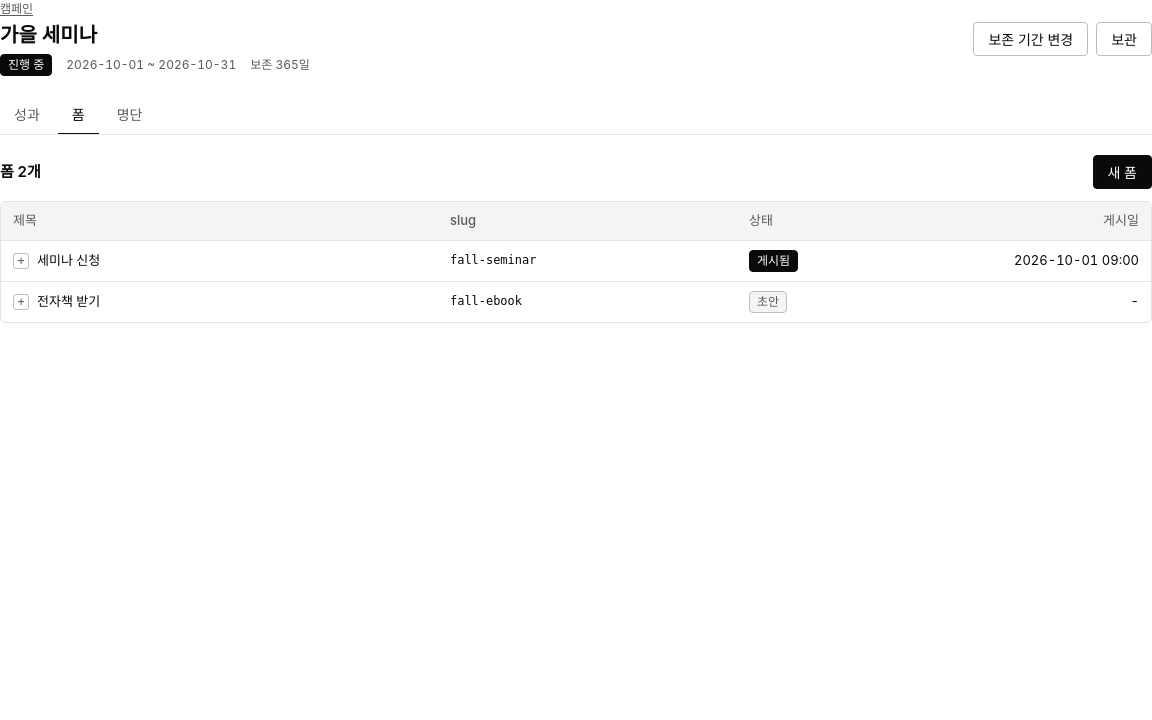
Scenario: 캠페인 보존 기간 › 보존 기간을 머리글에 보여주고 변경 대화상자로 바꾼다
Expected: the text "보존 365일" is shown, top-left (250, 56), bottom-right (310, 74)
Click the button "보존 기간 변경" at (1031, 39), box top-left (974, 22), bottom-right (1088, 56)
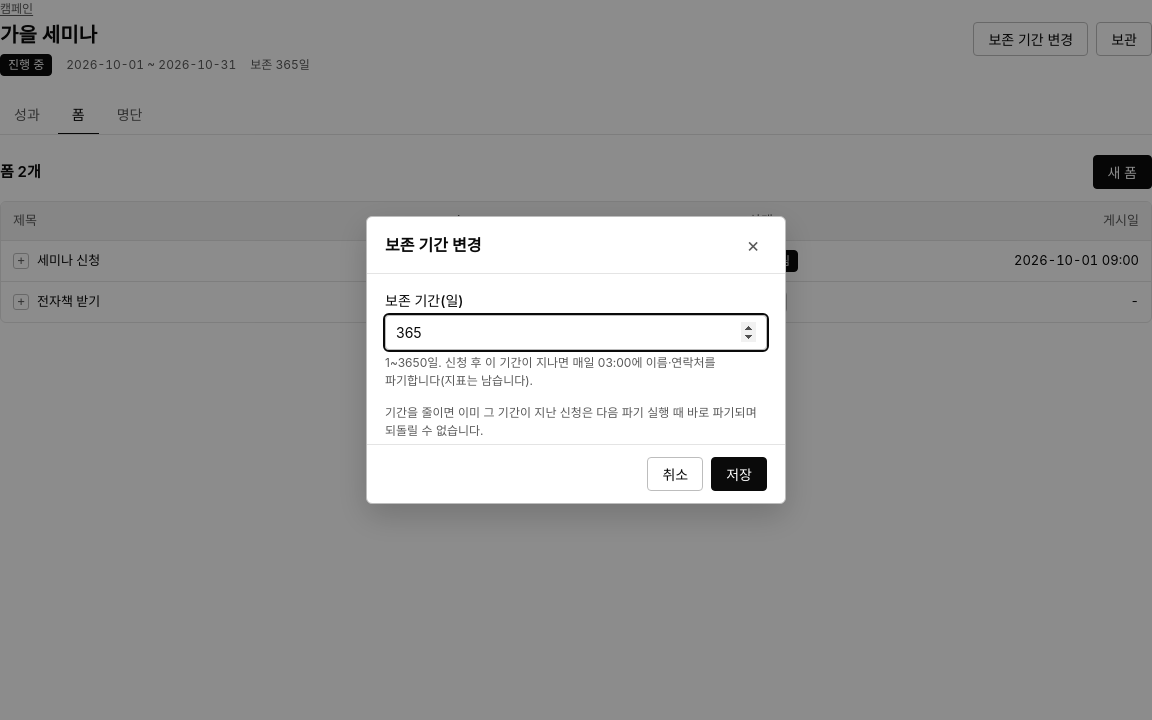
Now the number field labelled "보존 기간(일)" holds "365"
Replace the text in the number field labelled "보존 기간(일)" with "90" at (576, 332), box top-left (385, 315), bottom-right (767, 350)
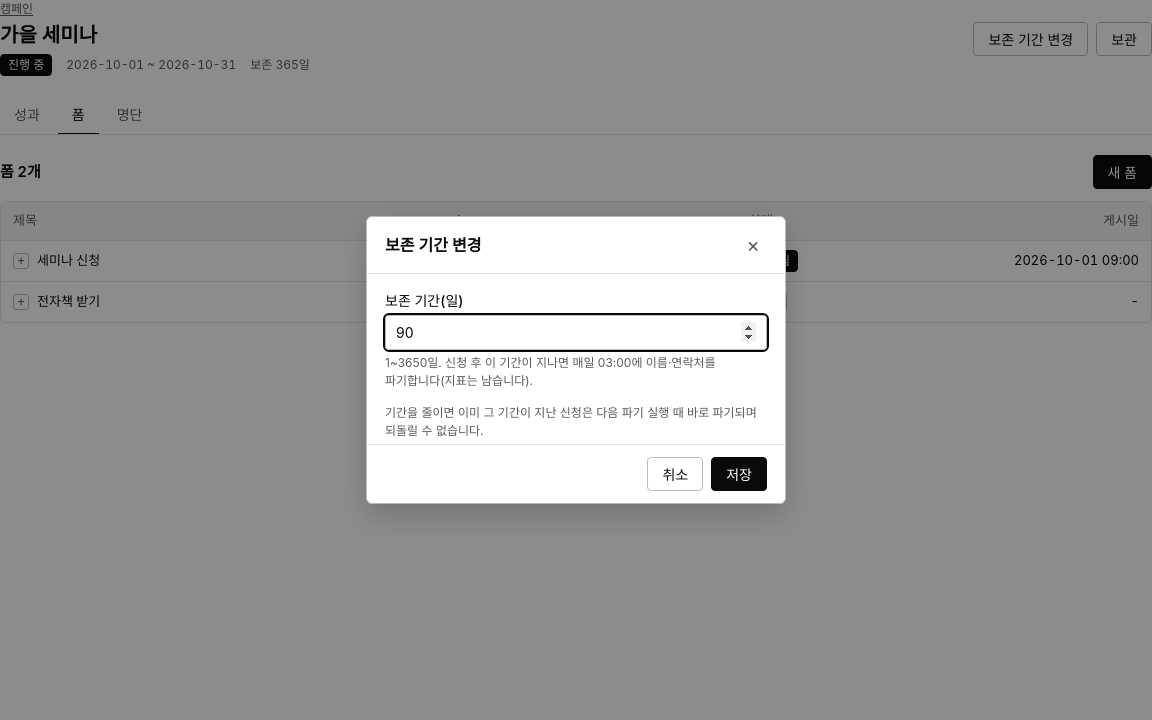
Click the button "저장" at (739, 474), box top-left (711, 457), bottom-right (767, 491)
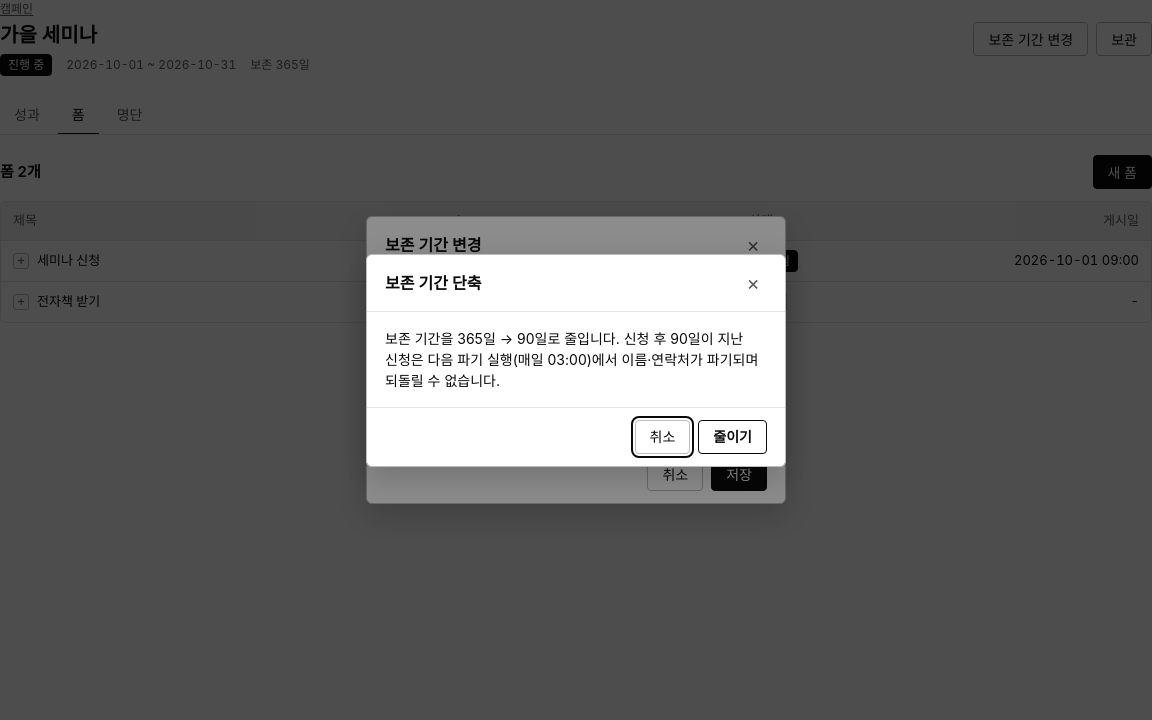
Now the dialog "보존 기간 단축" shows "365일 → 90일", box top-left (385, 330), bottom-right (758, 388)
Click the button "줄이기" at (733, 436), box top-left (698, 420), bottom-right (767, 454)
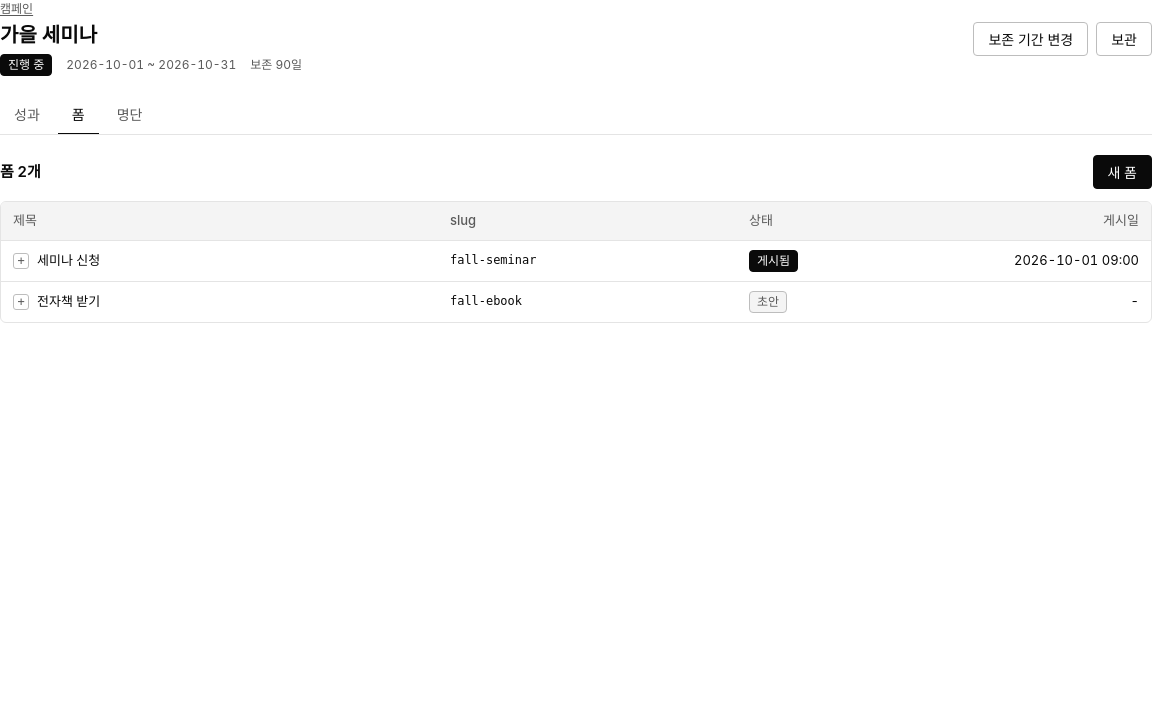
Now the text "보존 90일" is shown, box top-left (250, 56), bottom-right (302, 74)
